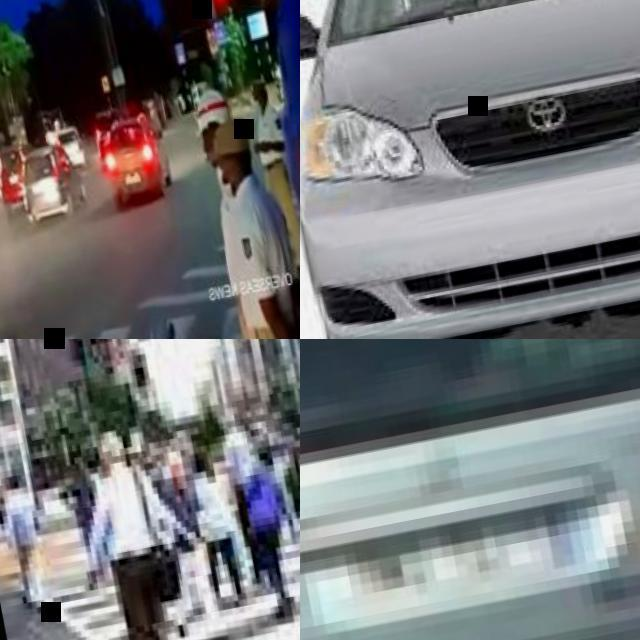car: (1, 0, 129, 173)
